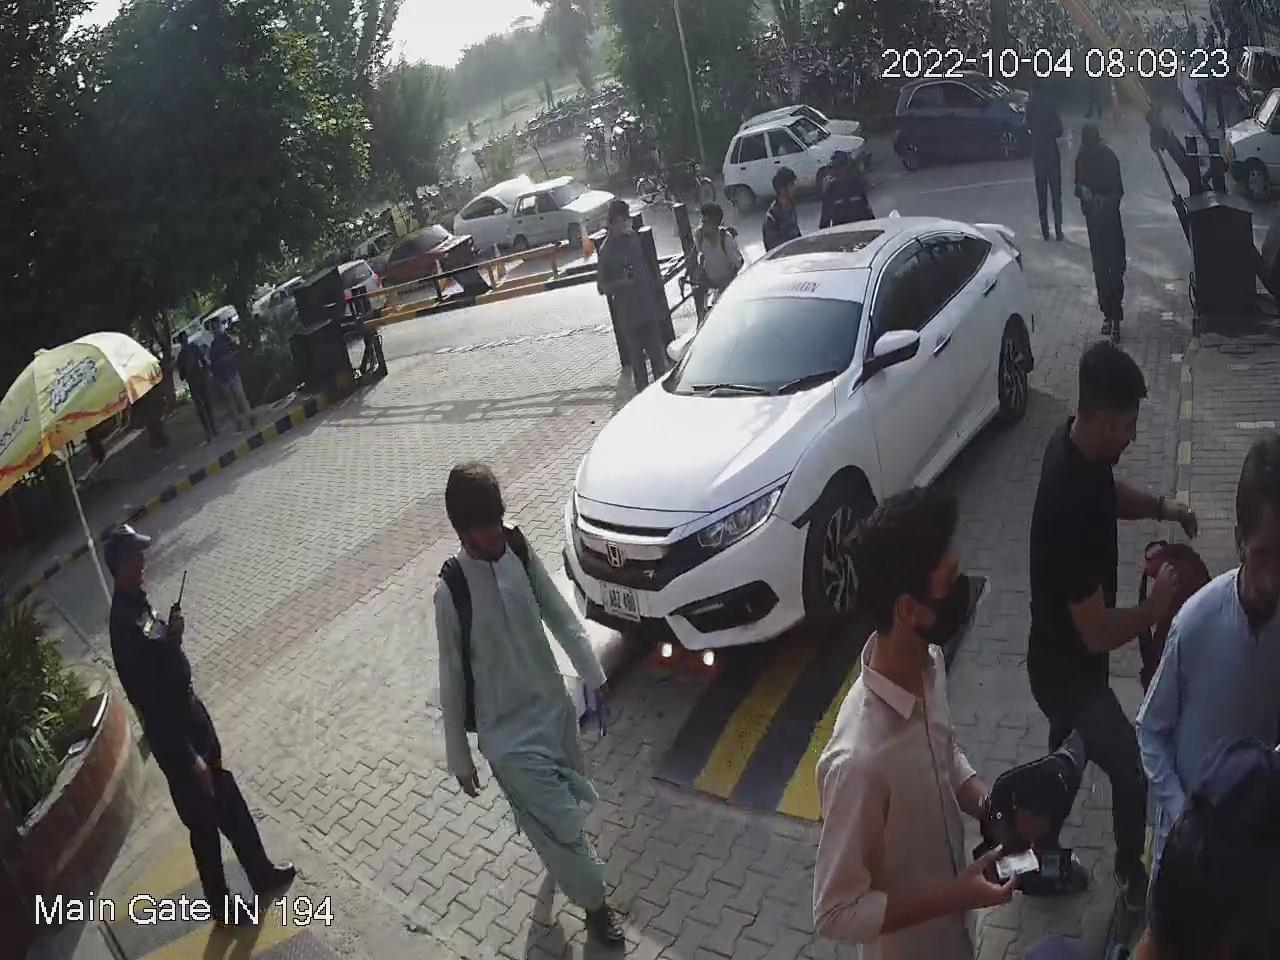windshield: (668, 255, 864, 387)
